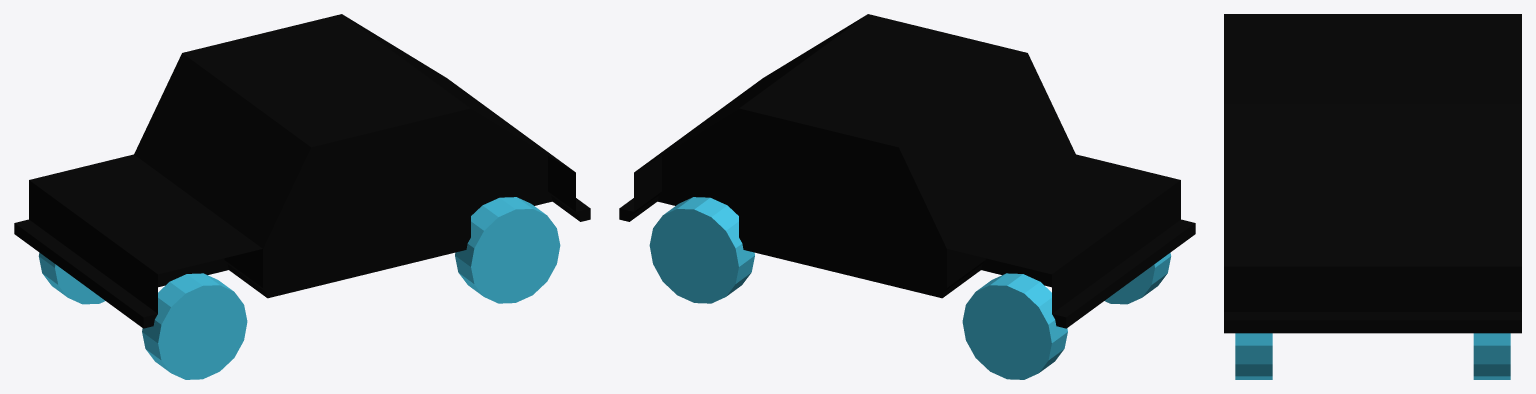
The model's file is car.glb.
The picture shows the model from 3 angles, left to right: view 1: azimuth 30°, elevation 25°; view 2: azimuth 150°, elevation 25°; view 3: azimuth 270°, elevation 25°; orthographic projection. The views are drawn at different scales.
Parts seen in each view (by area): view 1: Chassis, Front Left Wheel, Back Left Wheel, Front Right Wheel; view 2: Chassis, Front Right Wheel, Back Right Wheel, Front Left Wheel; view 3: Chassis, Back Left Wheel, Back Right Wheel.
Part boxes in pixels (x1,y1,x2,y2): Chassis: [14, 14, 590, 328]; Front Left Wheel: [142, 273, 247, 379]; Back Left Wheel: [455, 197, 560, 303]; Front Right Wheel: [38, 252, 104, 304]; Chassis: [619, 14, 1195, 328]; Front Right Wheel: [962, 273, 1067, 379]; Back Right Wheel: [649, 197, 754, 303]; Front Left Wheel: [1105, 252, 1171, 304]; Chassis: [1224, 14, 1521, 333]; Back Left Wheel: [1235, 333, 1272, 379]; Back Right Wheel: [1473, 333, 1510, 379].
Bounding box in the file's own units: 2 × 0.8989 × 1.
